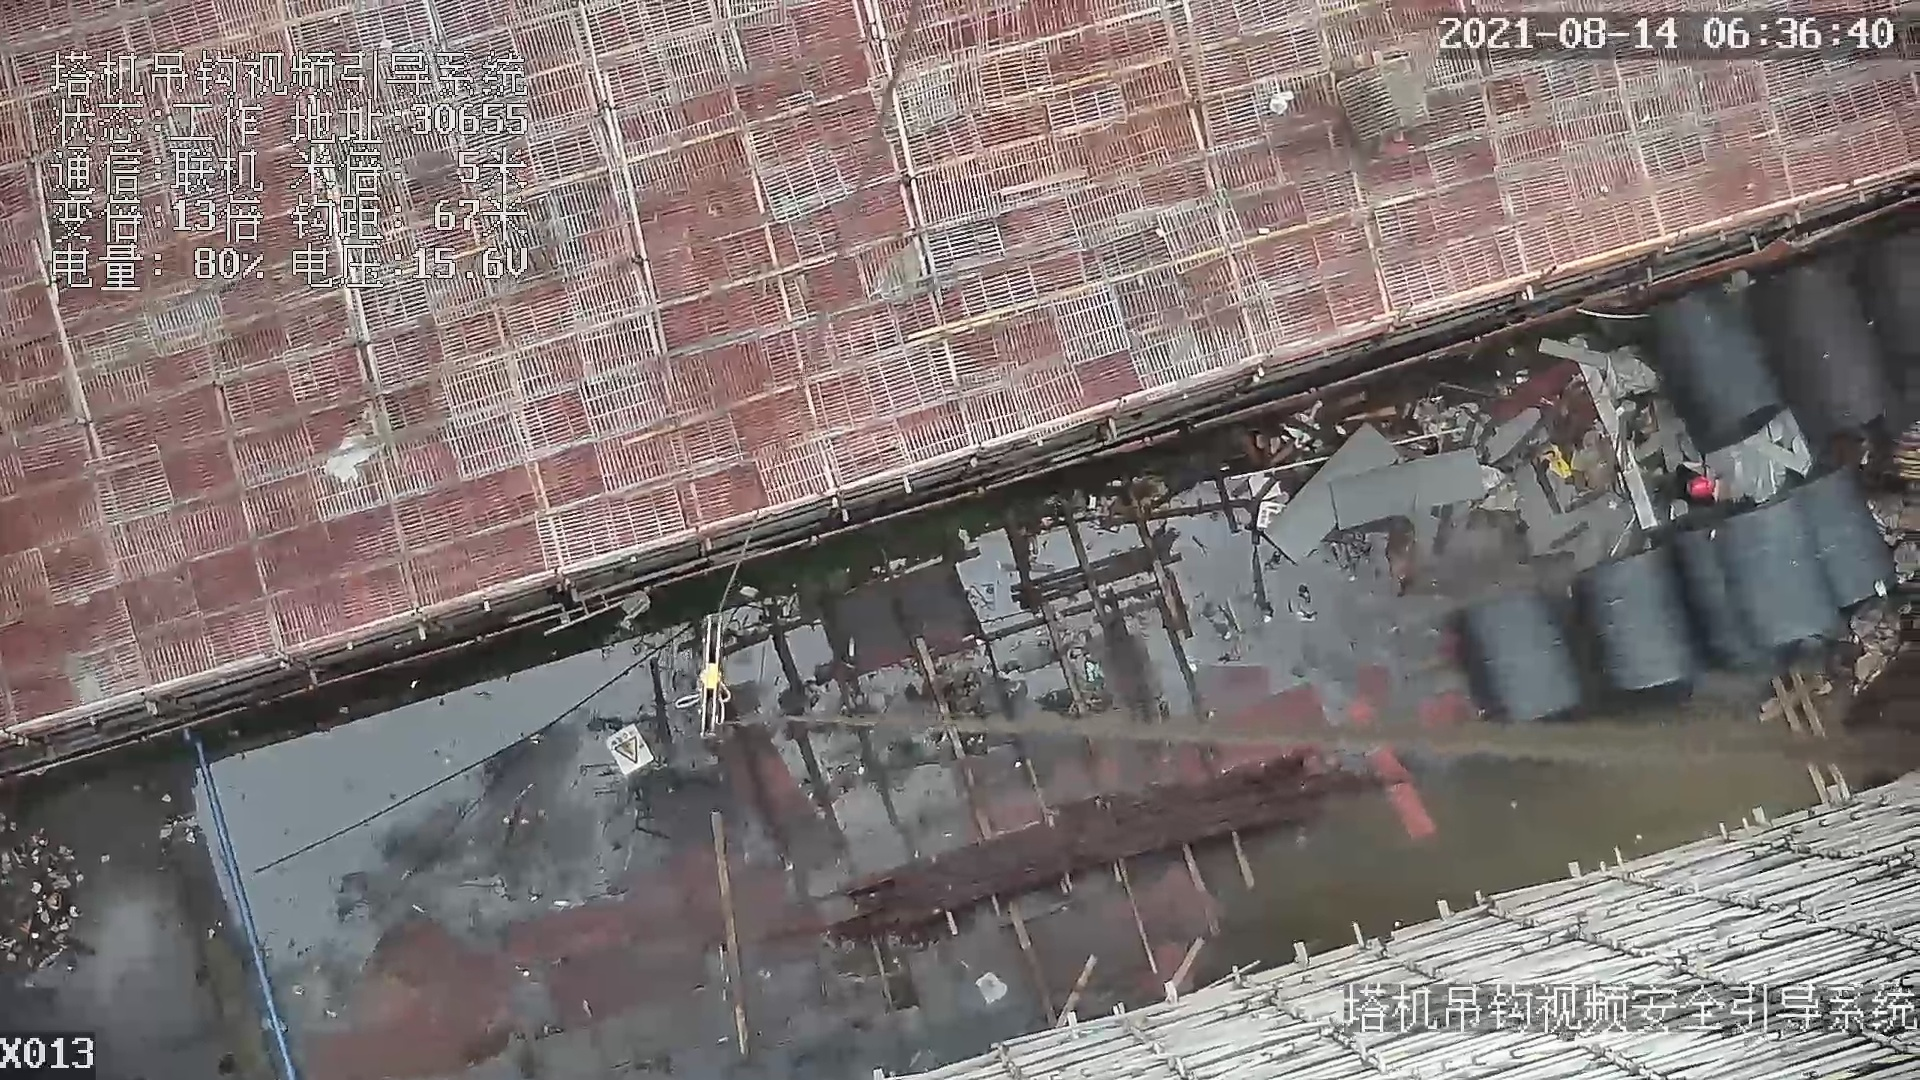helmet: (1688, 473, 1722, 501)
hook: (676, 618, 738, 736)
